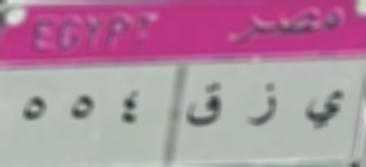4: (116, 84, 145, 132)
5: (66, 89, 98, 134), (18, 90, 50, 128)
qaaf: (186, 80, 222, 134)
yaa: (300, 84, 348, 138)
zay: (242, 78, 278, 130)
